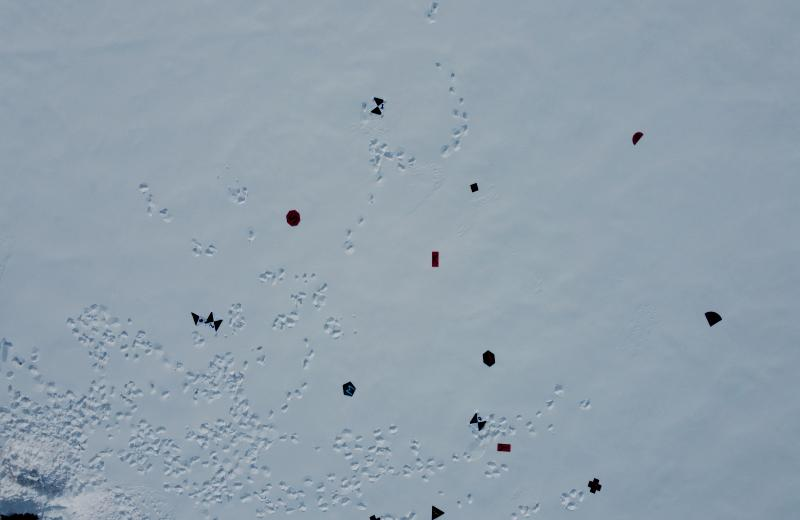Cross: (588, 477, 602, 495), (368, 514, 381, 520)
Hexagon: (482, 349, 496, 368)
Octagon: (286, 210, 301, 228)
Pentagon: (342, 380, 357, 398)
Quarter Circle: (704, 310, 723, 328)
Rectangle: (431, 249, 440, 269), (496, 442, 512, 453)
Semi Circle: (631, 130, 644, 147)
Square: (470, 182, 480, 194)
Triangle: (430, 504, 446, 520)
